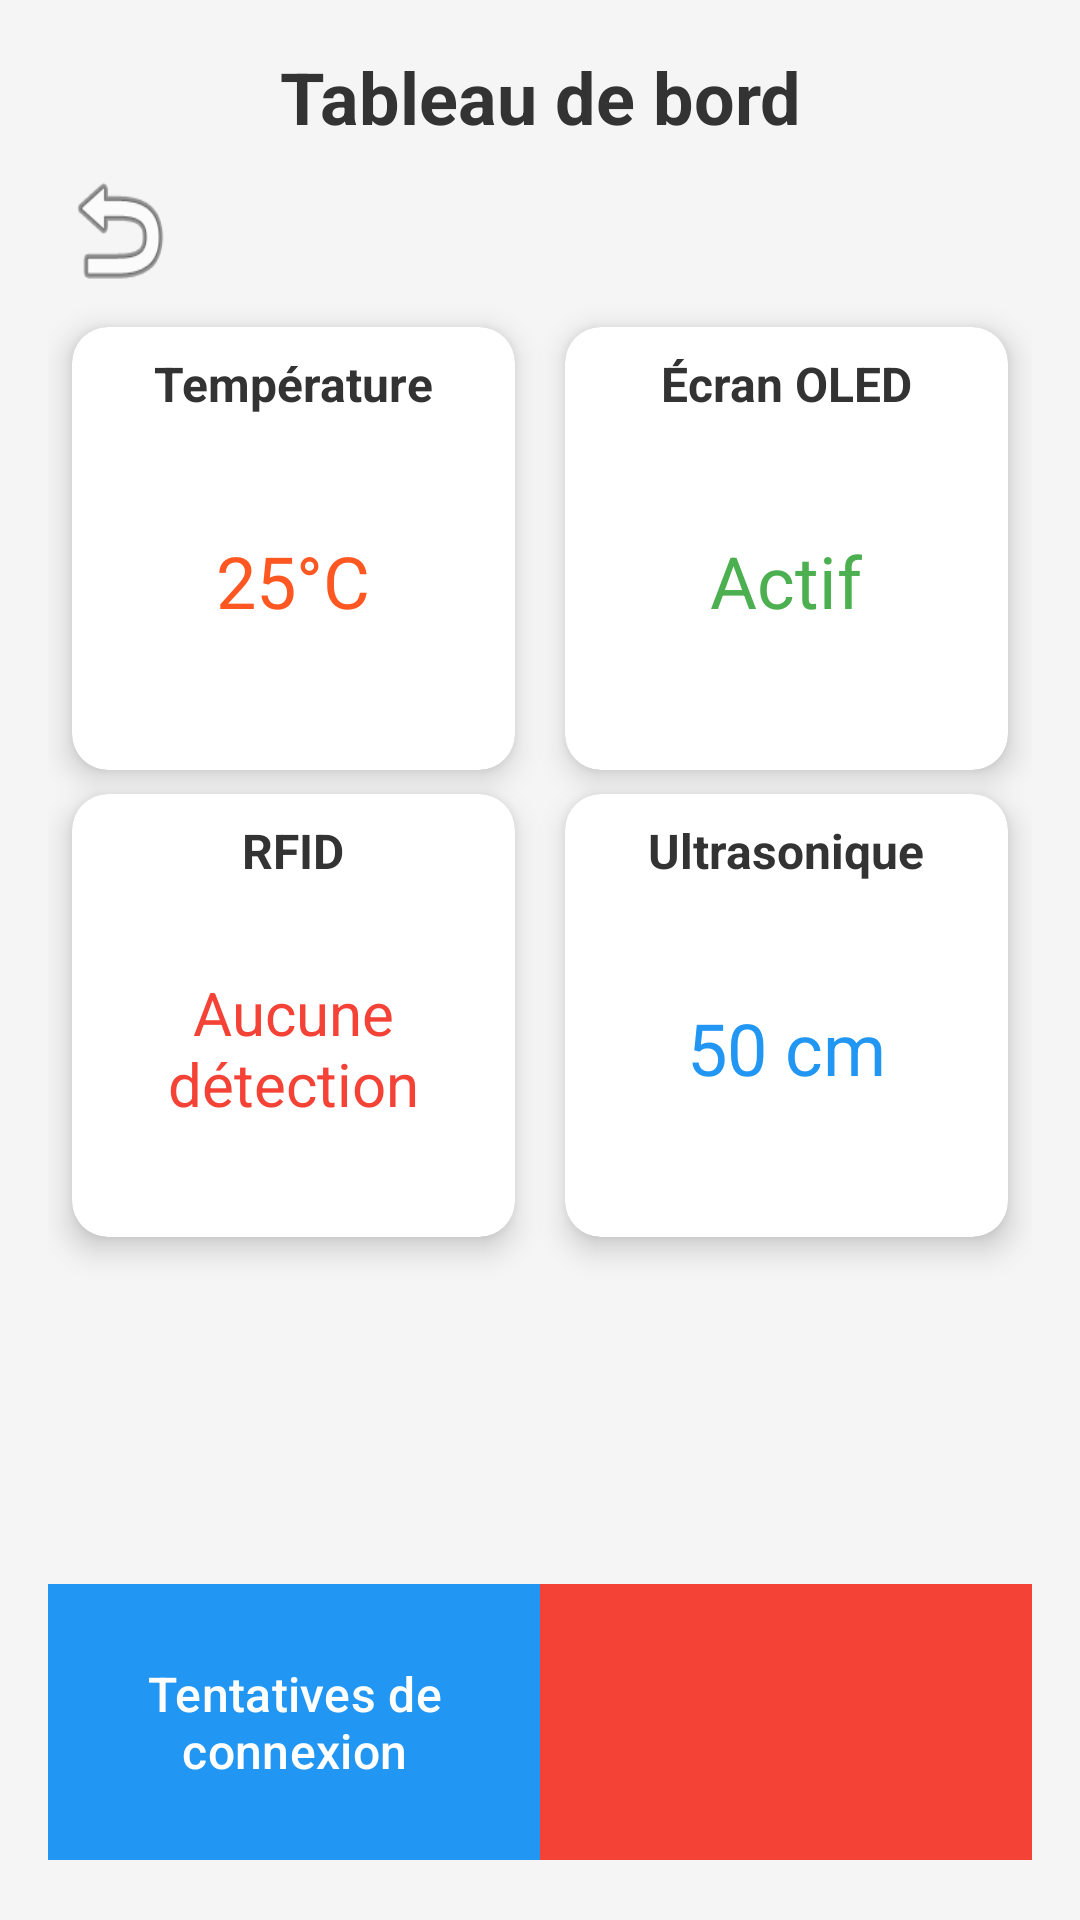

Icon click points for this 1080x1920 phone screenshot, format [x,y]:
Retour: [120,231]
